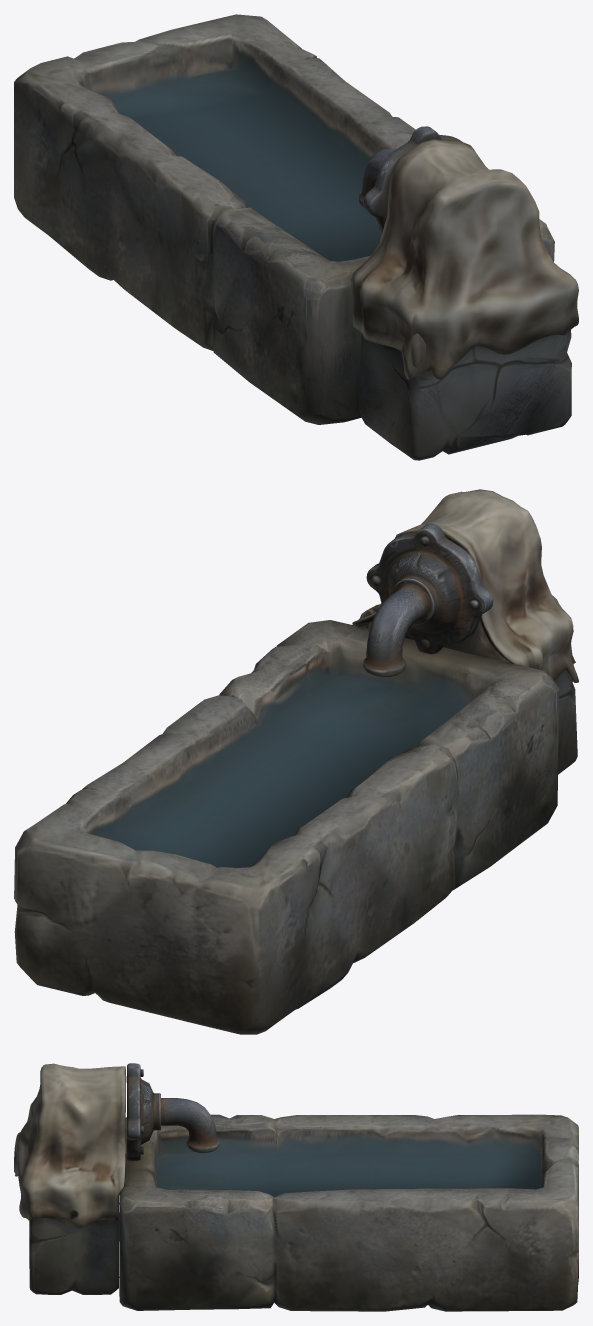
File: SM_Env_SohoHorseTrough.fbx
The picture shows the model from 3 angles, top to bottom: view 1: azimuth 30°, elevation 25°; view 2: azimuth 150°, elevation 25°; view 3: azimuth 270°, elevation 25°; orthographic projection. The views are drawn at different scales.
Parts seen in each view (by area): view 1: SM_Env_SohoHorseTrough; view 2: SM_Env_SohoHorseTrough; view 3: SM_Env_SohoHorseTrough.
Boxes of the visible parts, <box> form: SM_Env_SohoHorseTrough: <box>14,14,578,460</box>; SM_Env_SohoHorseTrough: <box>14,489,578,1034</box>; SM_Env_SohoHorseTrough: <box>14,1063,578,1311</box>.
Size of the model in its own units: 22.96 by 59.41 by 24.
Materials: 1 (1 with a texture image).
